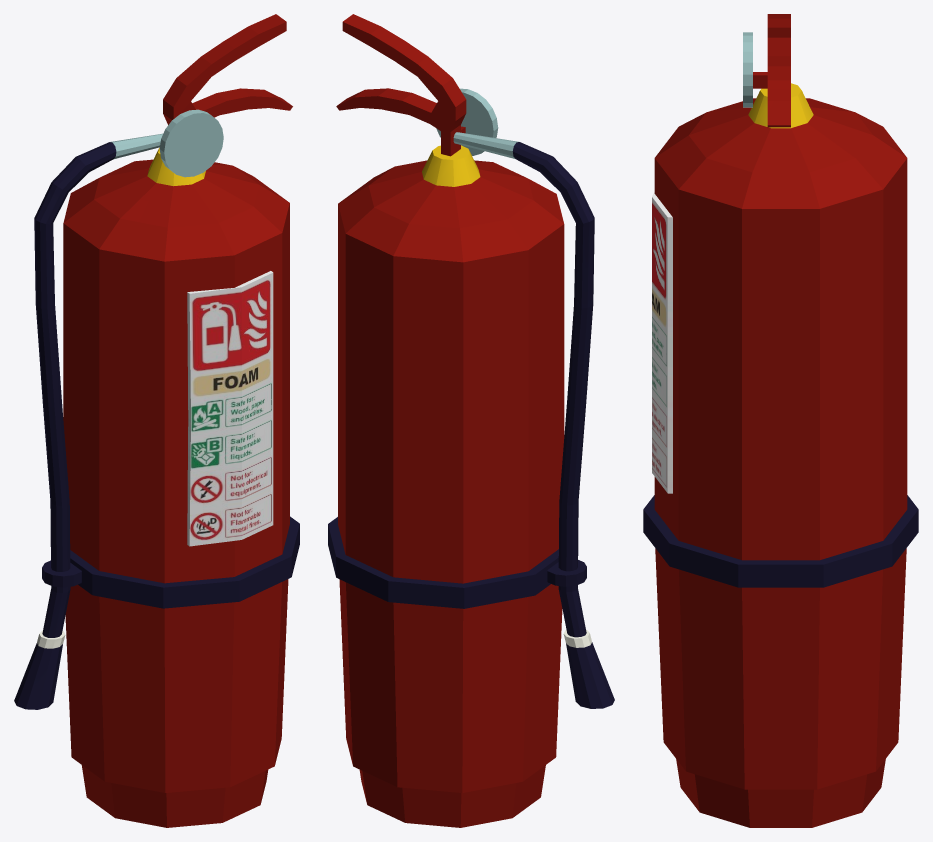
Rendered from Prop_FireExtinguisher_AB.fbx.
3 views of the same model, side by side, from view 1: azimuth 30°, elevation 25°; view 2: azimuth 150°, elevation 25°; view 3: azimuth 270°, elevation 25° (orthographic). The views are drawn at different scales.
Visible parts, largest first — view 1: Prop_FireExtinguisher_AB; view 2: Prop_FireExtinguisher_AB; view 3: Prop_FireExtinguisher_AB.
Part boxes in pixels (x1,y1,x2,y2): Prop_FireExtinguisher_AB: (14,14,299,827); Prop_FireExtinguisher_AB: (328,14,614,827); Prop_FireExtinguisher_AB: (643,14,918,827).
Size of the model in its own units: 24.85 by 30.88 by 81.21.
